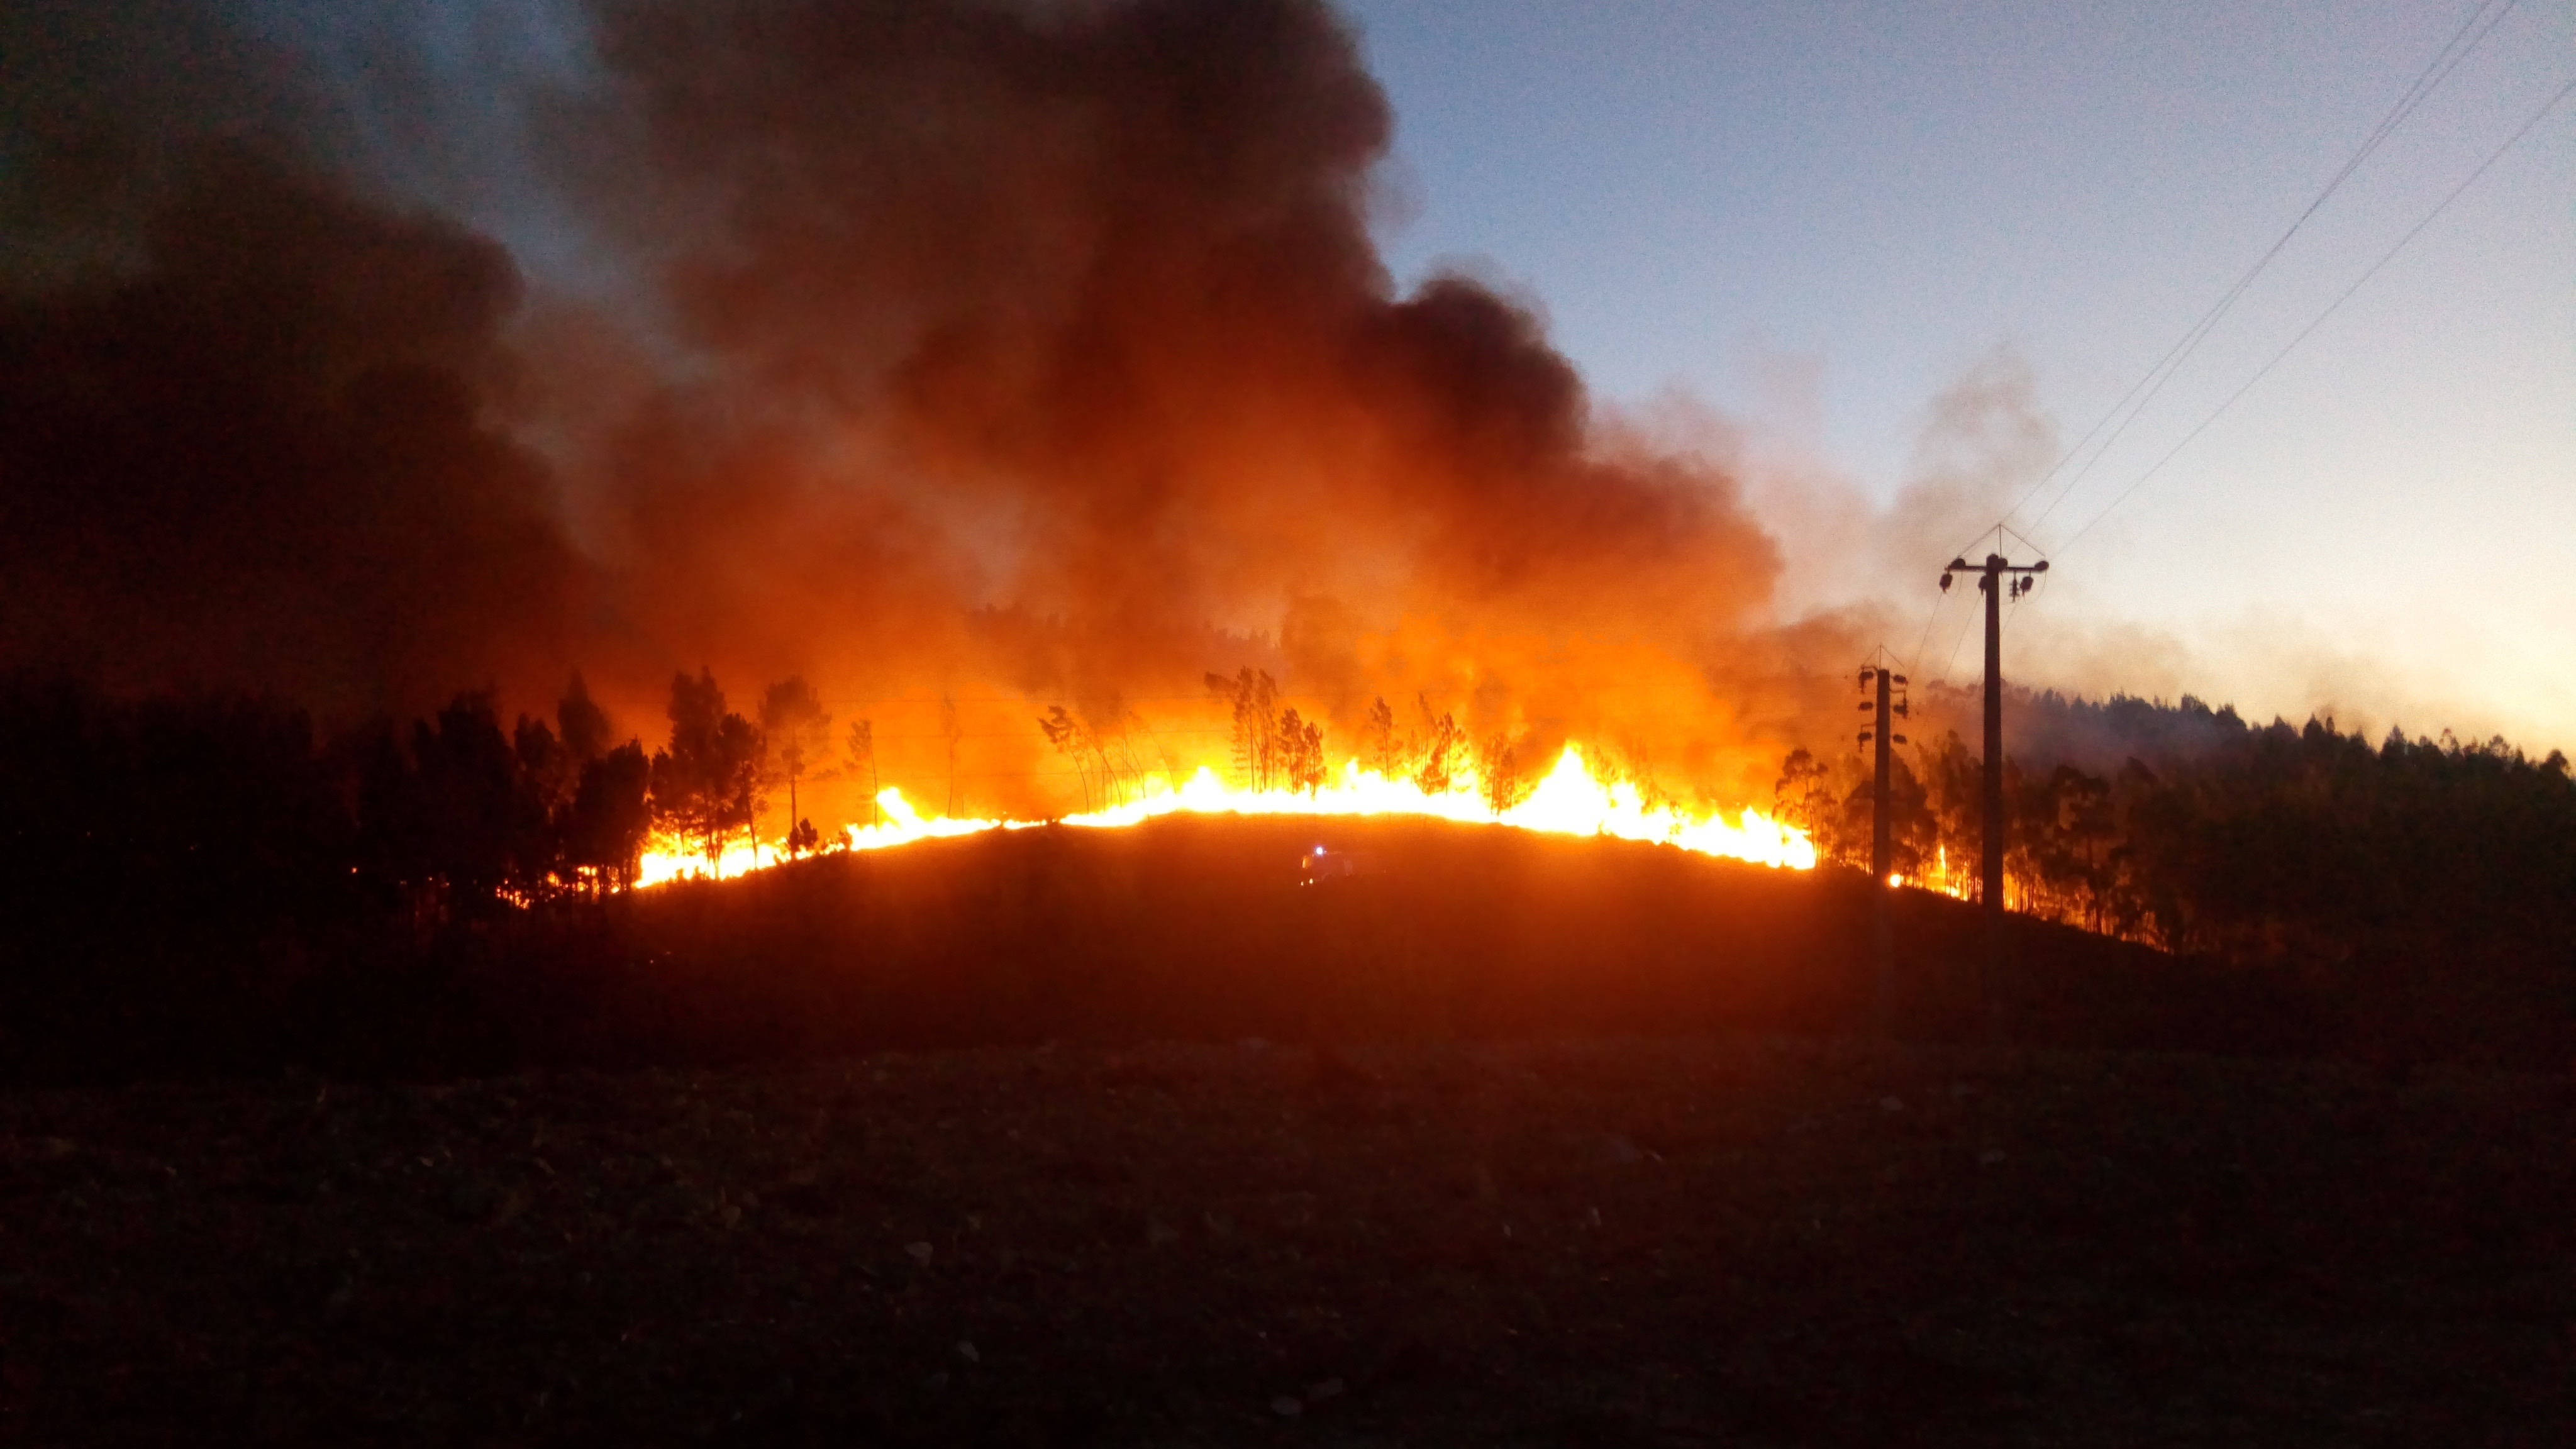fire: (573, 709, 2020, 909)
